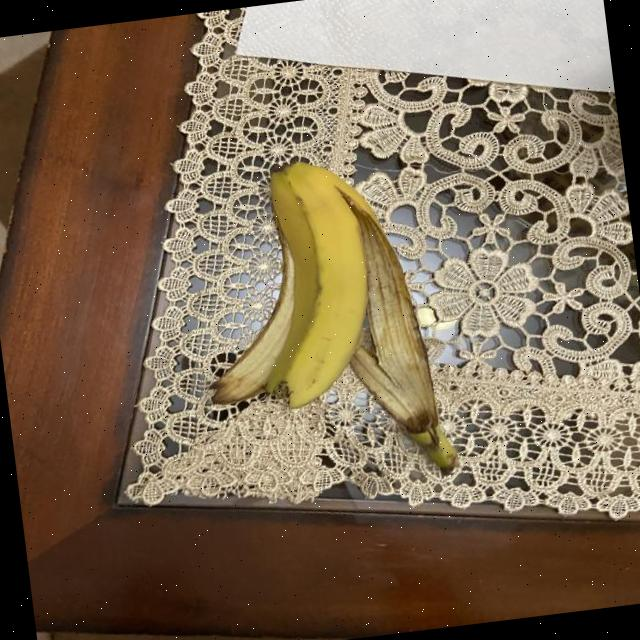banana-peel: (180, 142, 460, 500), (326, 172, 460, 482)
